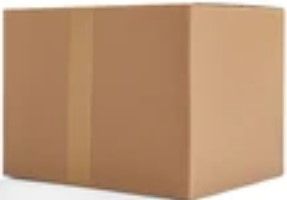stock: (5, 5, 283, 199)
